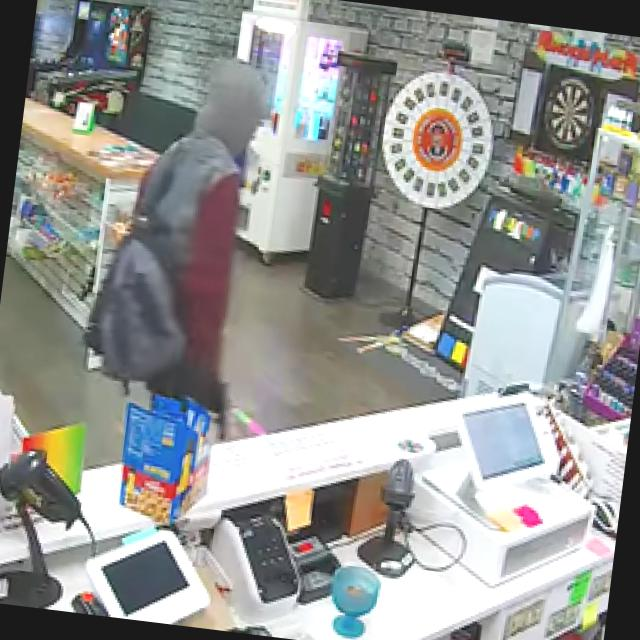person: (71, 43, 276, 440)
